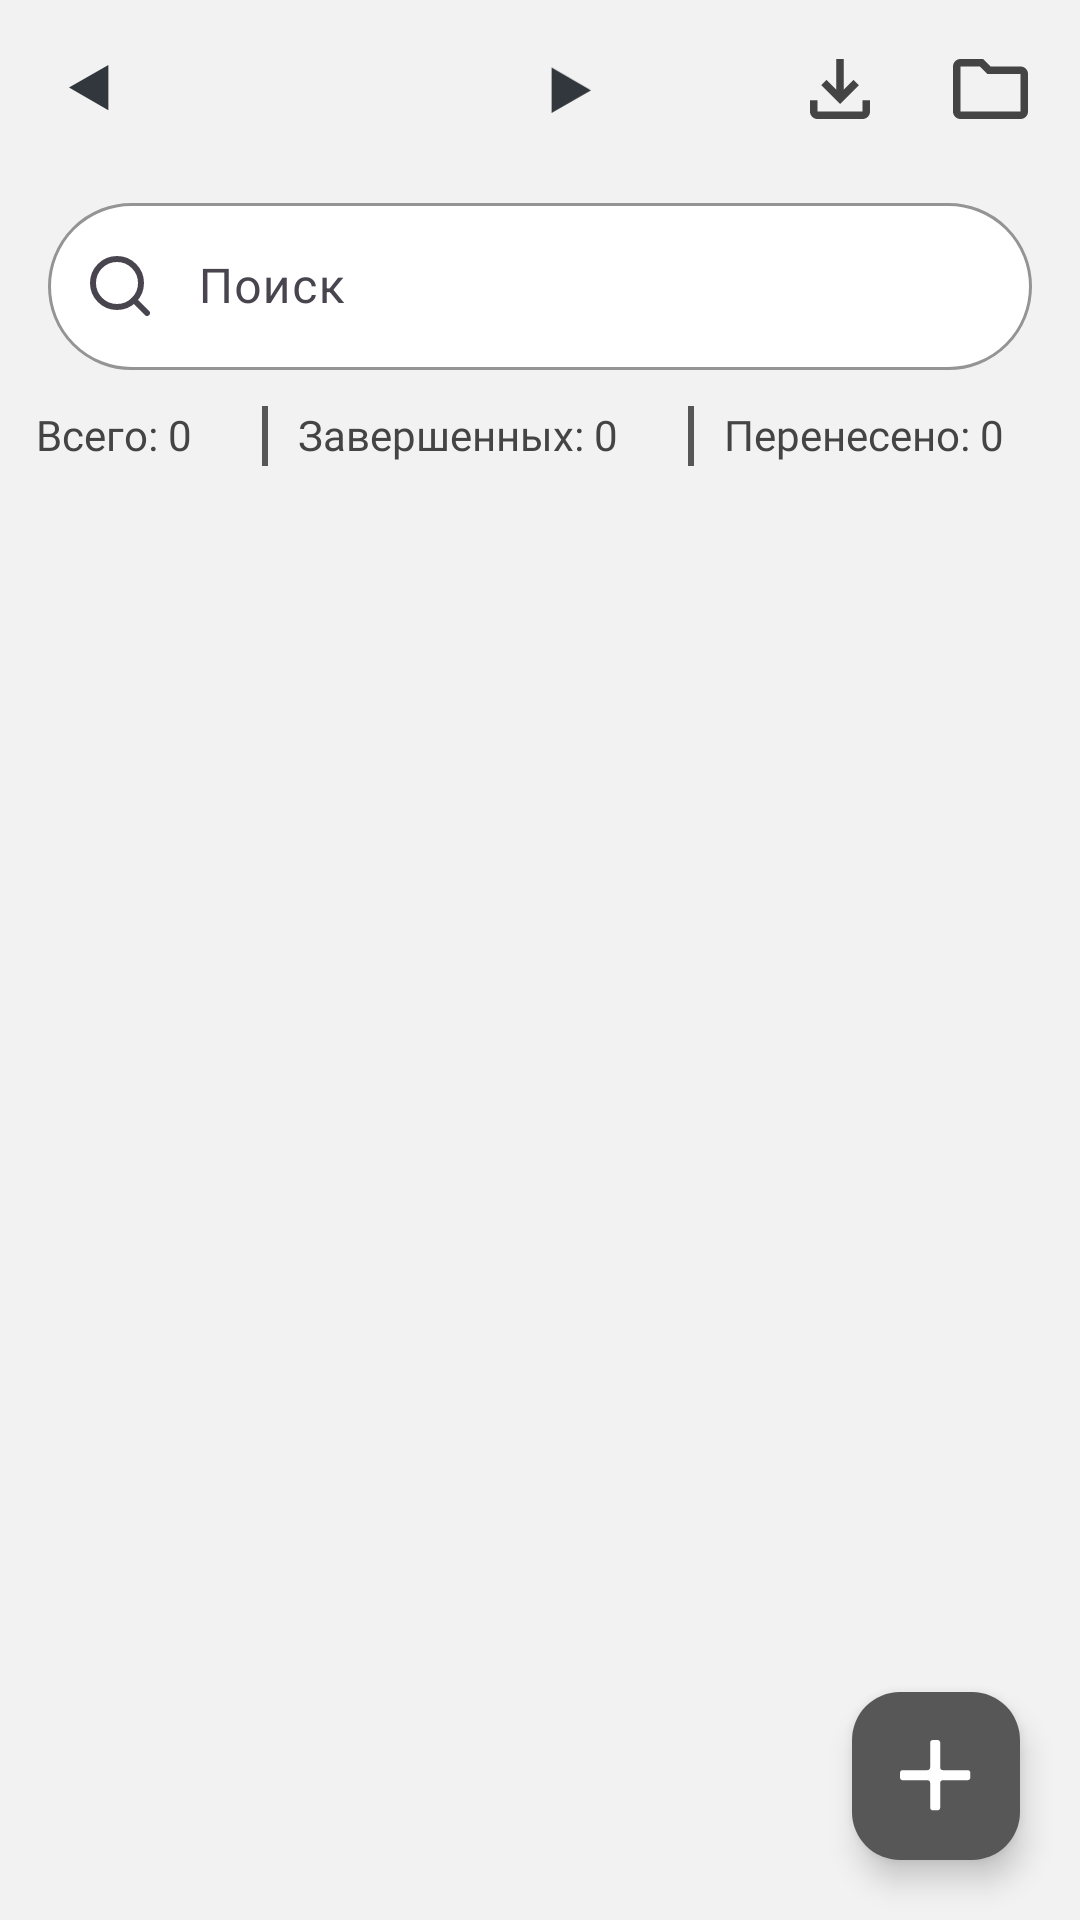

Icon bounding boxes for this 1080×1920 phone screenshot, format BBox(x1, y1, x2, y2):
add: BBox(852, 1692, 1020, 1860)
import: BBox(810, 59, 870, 119)
